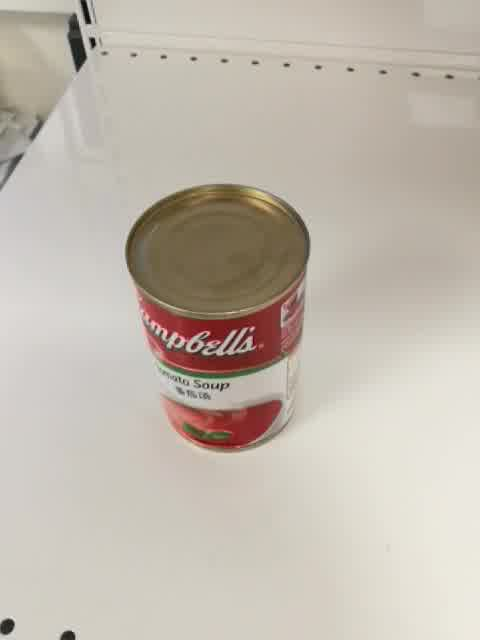tomatosoup: (121, 182, 312, 454)
